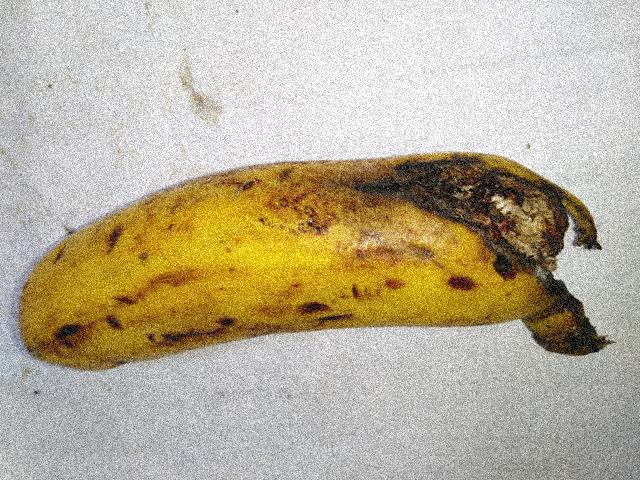rotten: (313, 117, 639, 390)
